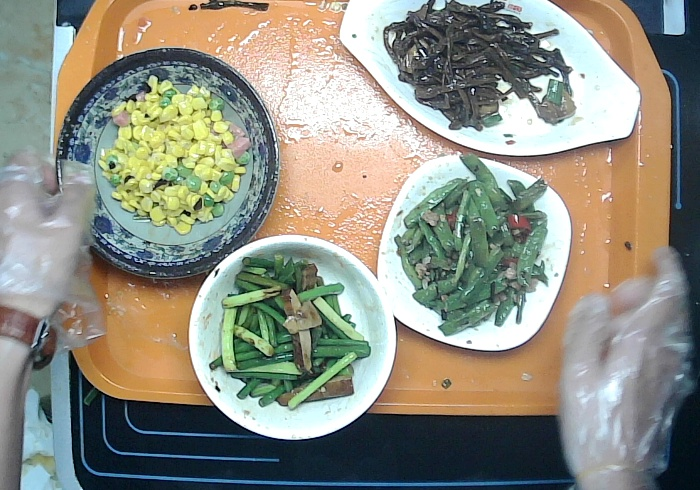ZNLD-Qing_Hua_Wan: (47, 31, 293, 288)
ZNLD-Si_Fang_Wan: (372, 143, 576, 361)
ZNLD-Tang_Wan: (182, 225, 399, 447)
ZNLD-Yu_Pan: (333, 2, 649, 170)
